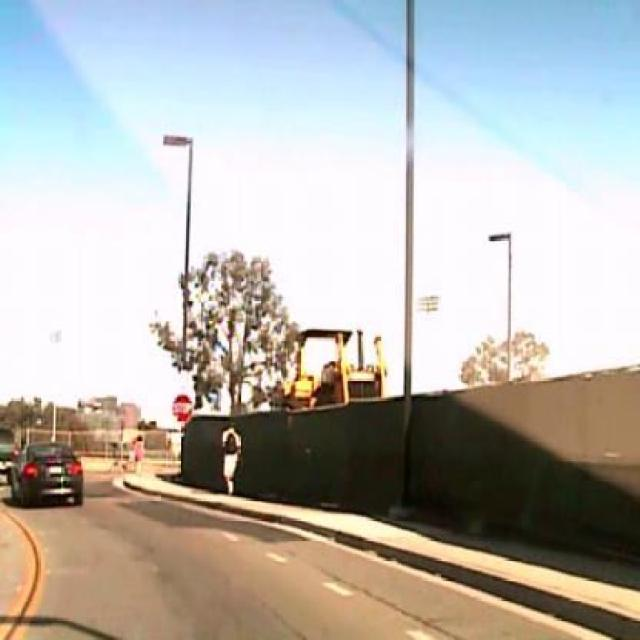stop: (172, 392, 194, 423)
